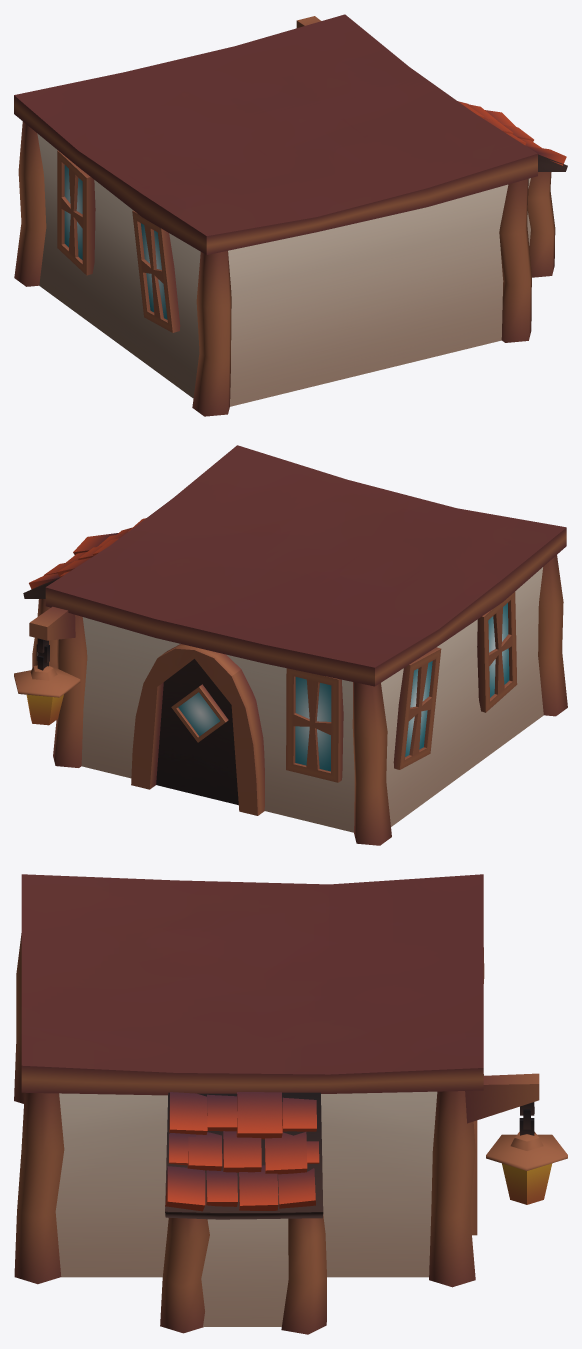
The model's file is Ground01.fbx.
3 renders of one model, top to bottom at view 1: azimuth 30°, elevation 25°; view 2: azimuth 150°, elevation 25°; view 3: azimuth 270°, elevation 25°, orthographic. The views are drawn at different scales.
Visible parts, largest first — view 1: Ground01; view 2: Ground01; view 3: Ground01.
Part boxes in pixels (x1,y1,x2,y2): Ground01: (14,14,567,416); Ground01: (14,445,567,845); Ground01: (14,874,567,1334).
Bounding box in the file's own units: 820 × 337 × 775.
Materials: 1 (1 with a texture image).
